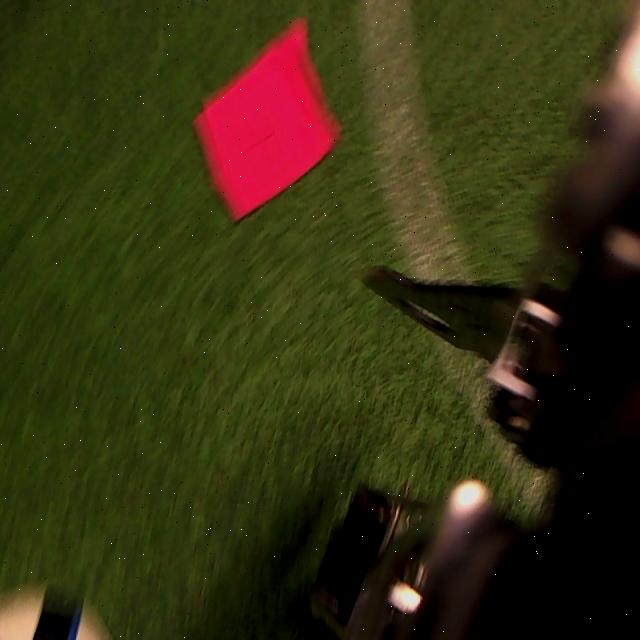ball: (0, 585, 113, 640)
